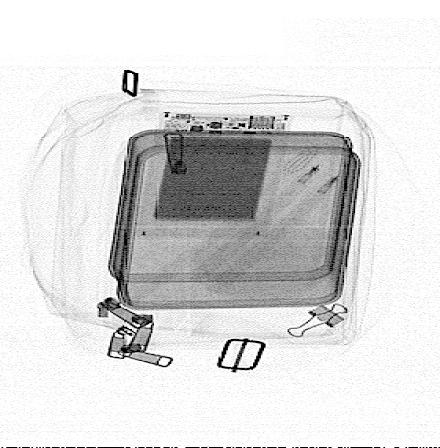Powerbank: (138, 111, 292, 238)
